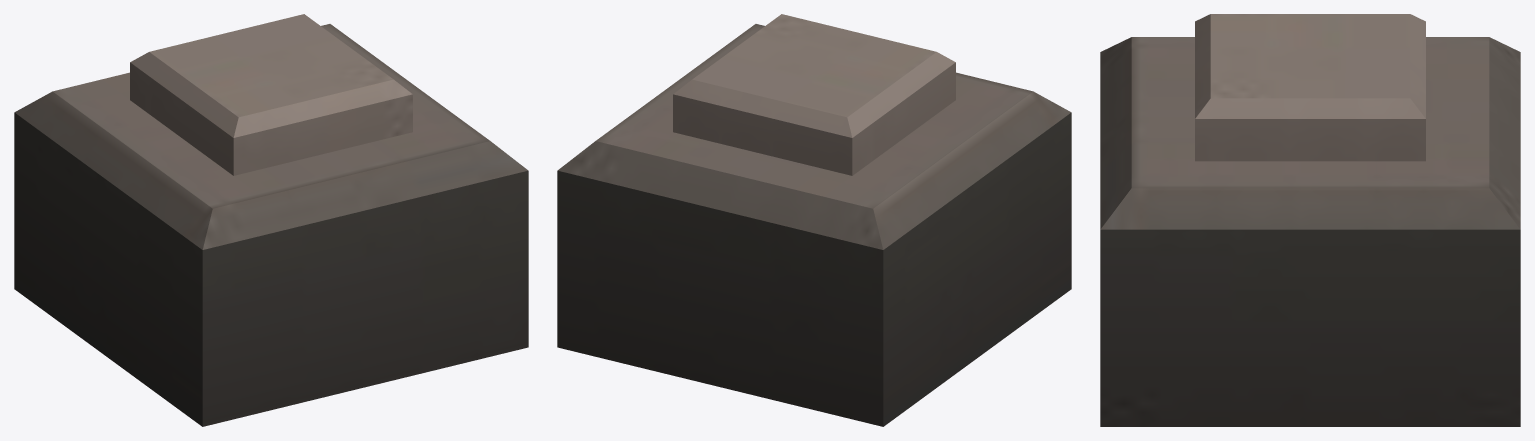
File: roboport.glb
The picture shows the model from 3 angles, left to right: view 1: azimuth 30°, elevation 25°; view 2: azimuth 150°, elevation 25°; view 3: azimuth 270°, elevation 25°; orthographic projection. The views are drawn at different scales.
Visible parts, largest first — view 1: roboport; view 2: roboport; view 3: roboport.
Boxes of the visible parts, bbox=[...] form: roboport: bbox=[14, 14, 528, 426]; roboport: bbox=[557, 14, 1071, 426]; roboport: bbox=[1100, 14, 1520, 426].
Bounding box in the file's own units: 0.27 × 0.2 × 0.27.
1 material, 1 textured.
